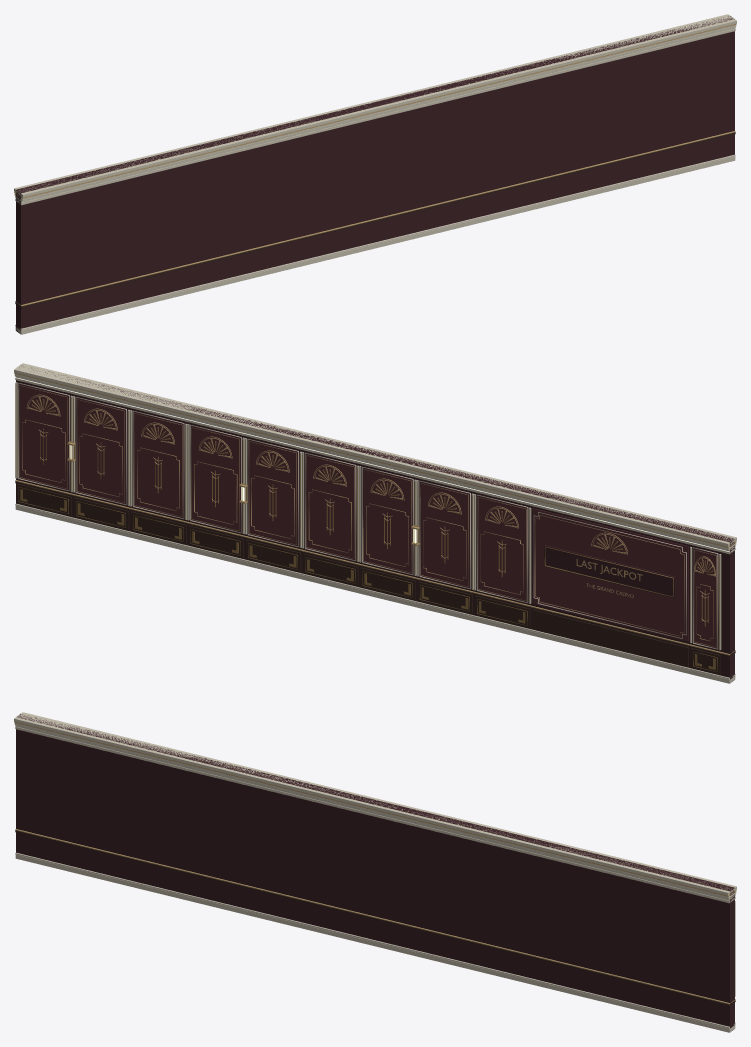
Rendered from casino-deco-casino-wall-se.glb.
3 renders of one model, top to bottom at view 1: azimuth 30°, elevation 25°; view 2: azimuth 150°, elevation 25°; view 3: azimuth 330°, elevation 25°, orthographic.
Parts seen in each view (by area): view 1: casino-wall-se / Entry deep oxblood reveals, casino-wall-se / Entry carved limestone, casino-wall-se / Entry ivory marble, casino-wall-se / Entry champagne brass, casino-wall-se / Entry dark walnut; view 2: casino-wall-se / Entry smoky oxblood lacquer, casino-wall-se / Entry carved limestone, casino-wall-se / Entry dark walnut, casino-wall-se / Entry deep oxblood reveals, casino-wall-se / Entry champagne brass, casino-wall-se / Entry aged bronze, casino-wall-se / Entry ivory marble, casino-wall-se / Entry warm opal; view 3: casino-wall-se / Entry deep oxblood reveals, casino-wall-se / Entry carved limestone, casino-wall-se / Entry ivory marble, casino-wall-se / Entry champagne brass, casino-wall-se / Entry dark walnut.
Boxes of the visible parts, x1,y1,x2,y2 form: casino-wall-se / Entry deep oxblood reveals: (16, 16, 734, 333); casino-wall-se / Entry carved limestone: (14, 14, 736, 334); casino-wall-se / Entry ivory marble: (14, 25, 736, 330); casino-wall-se / Entry champagne brass: (14, 23, 736, 306); casino-wall-se / Entry dark walnut: (15, 132, 735, 308); casino-wall-se / Entry smoky oxblood lacquer: (19, 383, 717, 648); casino-wall-se / Entry carved limestone: (14, 363, 736, 683); casino-wall-se / Entry dark walnut: (15, 481, 735, 674); casino-wall-se / Entry deep oxblood reveals: (16, 365, 734, 681); casino-wall-se / Entry champagne brass: (14, 372, 736, 655); casino-wall-se / Entry aged bronze: (15, 384, 719, 671); casino-wall-se / Entry ivory marble: (14, 374, 736, 679); casino-wall-se / Entry warm opal: (15, 377, 729, 551); casino-wall-se / Entry deep oxblood reveals: (16, 713, 734, 1030); casino-wall-se / Entry carved limestone: (14, 712, 736, 1032); casino-wall-se / Entry ivory marble: (14, 723, 736, 1028); casino-wall-se / Entry champagne brass: (14, 721, 736, 1004); casino-wall-se / Entry dark walnut: (15, 830, 735, 1006).
Bounding box in the file's own units: 36 × 6.8 × 0.833.
8 materials, 2 textured.
